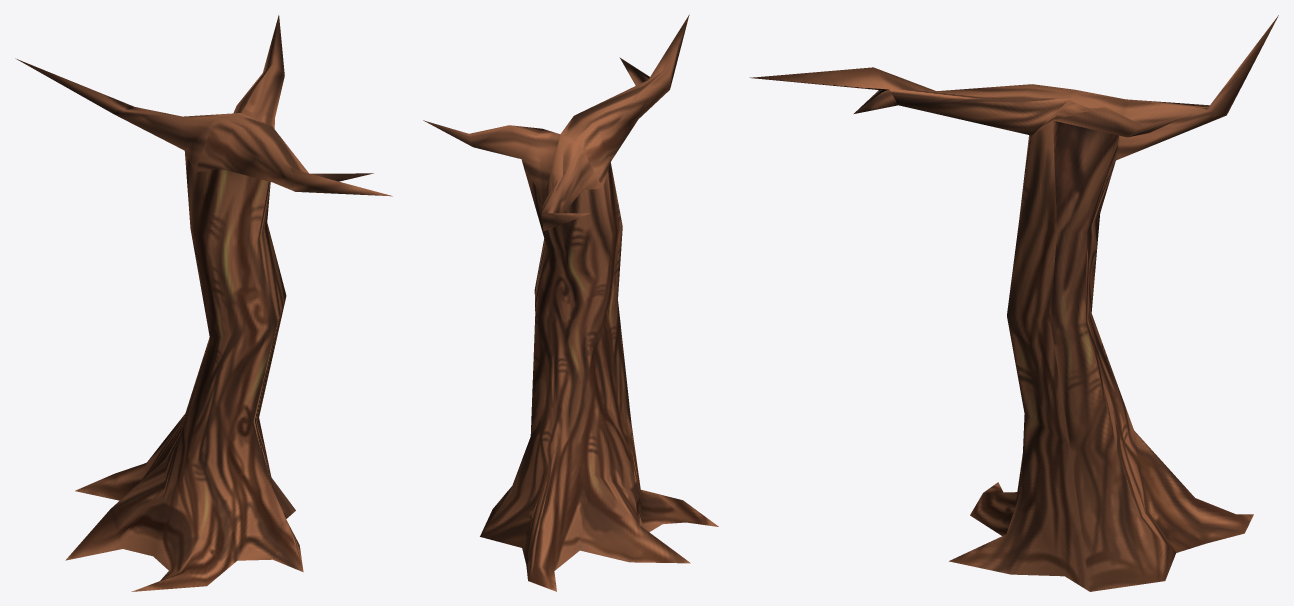
File: tree_TreeDead2.FBX
The picture shows the model from 3 angles, left to right: view 1: azimuth 30°, elevation 25°; view 2: azimuth 150°, elevation 25°; view 3: azimuth 270°, elevation 25°; orthographic projection. The views are drawn at different scales.
Visible parts, largest first — view 1: env_TreeTrunk006; view 2: env_TreeTrunk006; view 3: env_TreeTrunk006.
Boxes of the visible parts, x1,y1,x2,y2 form: env_TreeTrunk006: (15,15,392,591); env_TreeTrunk006: (423,14,718,591); env_TreeTrunk006: (749,15,1278,591).
Size of the model in its own units: 18.34 by 30.46 by 31.3.
1 material, 1 textured.
